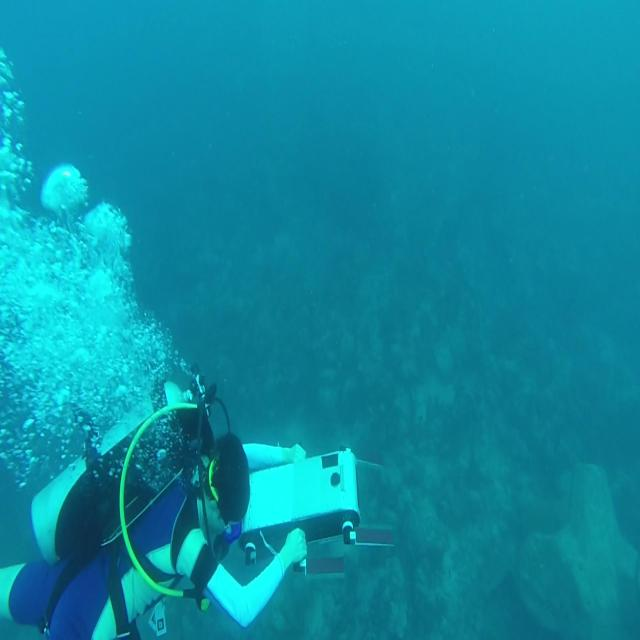human: (5, 373, 308, 638)
